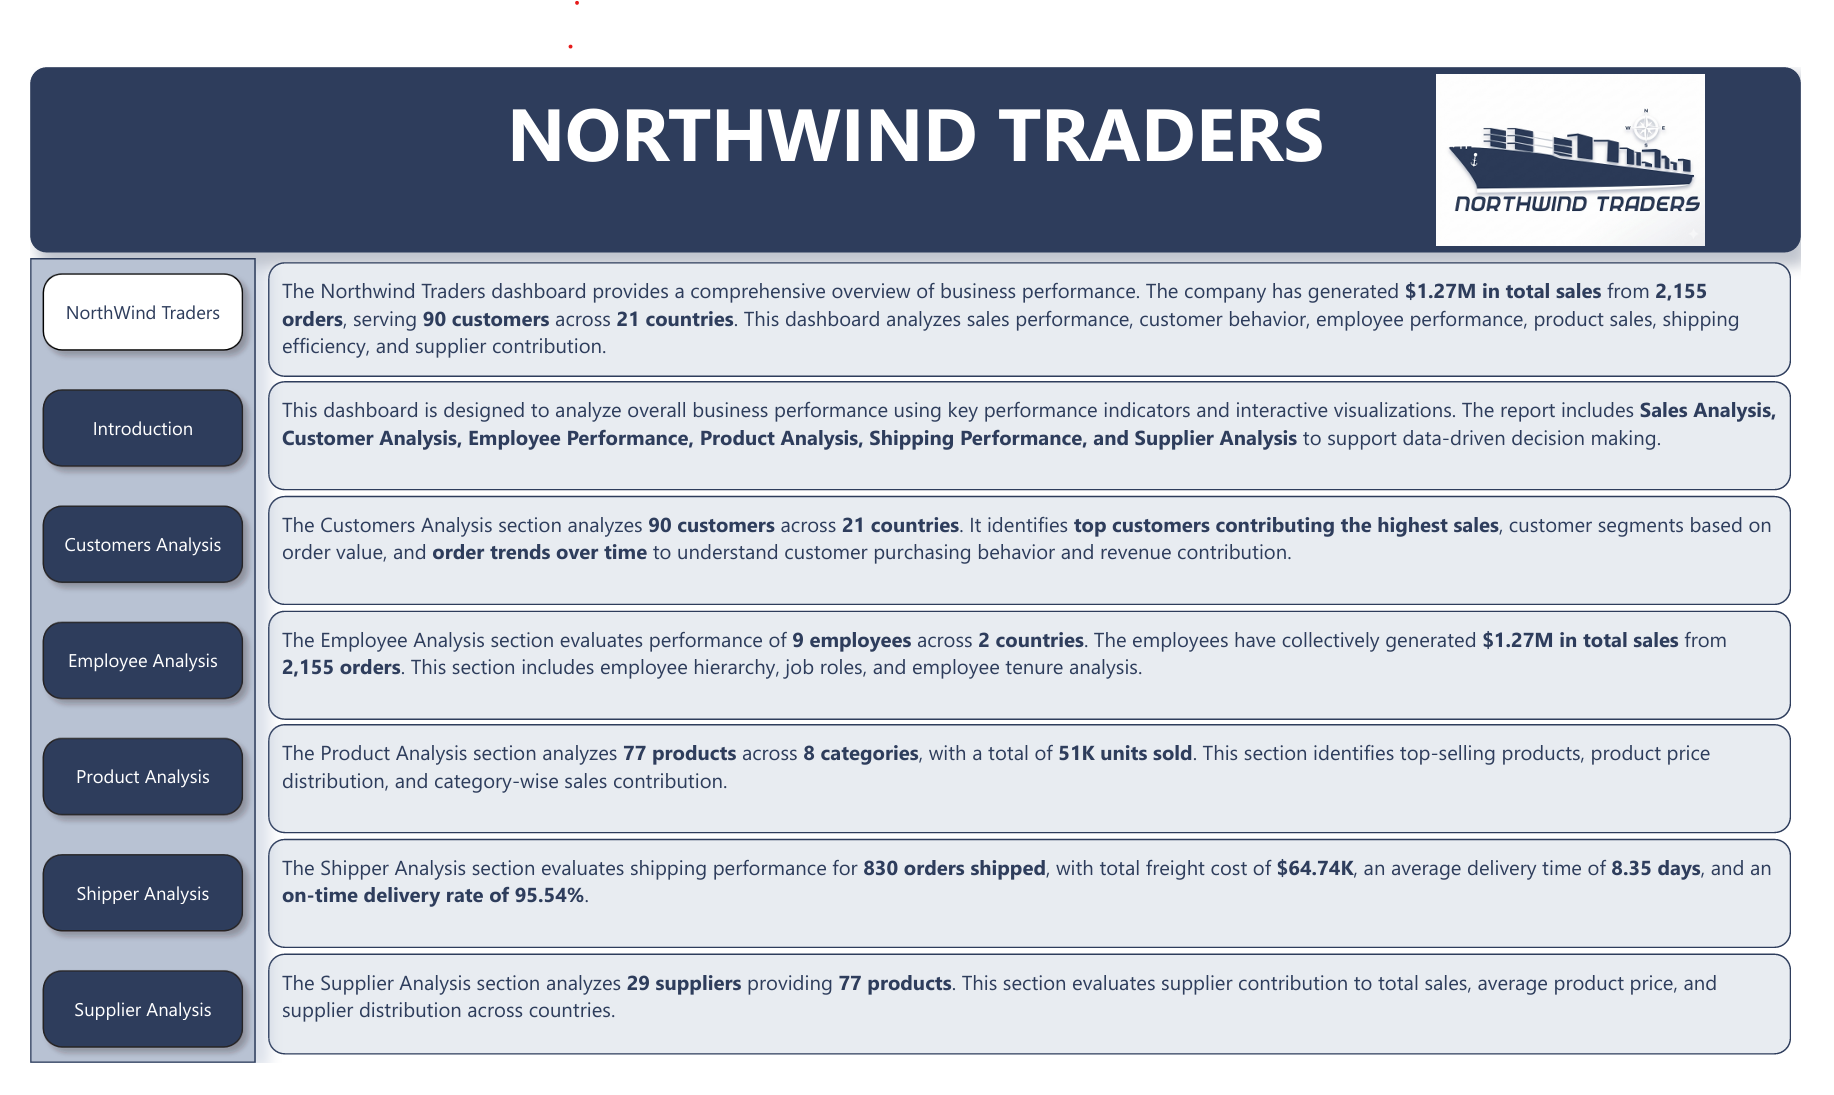

What the dashboard file says about the page in this screenshot:
{"tool":"powerbi","page":{"name":"NorthWind Traders","canvas":[1280,720],"ordinal":0},"visuals":[{"type":"textbox","box":[0,0,1280.4,134.2],"z":0,"group":"g1"},{"type":"textbox","box":[10,10,1116.3,78.9],"z":0},{"type":"textbox","box":[0,137.7,163.2,582.2],"z":0,"group":"g9"},{"type":"textbox","box":[172.3,140.6,1100.9,82.5],"z":0,"group":"g3"},{"type":"textbox","box":[172.3,227,1100.9,78.9],"z":0,"group":"g5"},{"type":"textbox","box":[172.3,309.8,1100.9,78.9],"z":0,"group":"g2"},{"type":"textbox","box":[172.3,392.6,1100.9,78.9],"z":0,"group":"g4"},{"type":"textbox","box":[172.3,475.5,1100.9,78.9],"z":0,"group":"g8"},{"type":"textbox","box":[172.3,558.3,1100.9,78.9],"z":0,"group":"g6"},{"type":"textbox","box":[172.3,641.1,1100.9,72.5],"z":0,"group":"g7"},{"type":"group","id":"g1","title":"Group 2","box":[0,0,1280.4,134.2],"z":1000},{"type":"image","box":[997.5,0,233,134.2],"z":1000,"group":"g1"},{"type":"group","id":"g2","title":"Group 2","box":[172.3,309.8,1100.9,78.9],"z":2000},{"type":"group","id":"g3","title":"Group 2","box":[172.3,140.6,1100.9,82.5],"z":3000},{"type":"group","id":"g4","title":"Group 2","box":[172.3,392.6,1100.9,78.9],"z":4000},{"type":"group","id":"g5","title":"Group 2","box":[172.3,227,1100.9,78.9],"z":5000},{"type":"pageNavigator","box":[0,139.8,163.2,579.4],"z":5501,"group":"g9"},{"type":"group","id":"g6","title":"Group 2","box":[172.3,558.3,1100.9,78.9],"z":6000},{"type":"group","id":"g7","title":"Group 2","box":[172.3,641.1,1100.9,72.5],"z":7000},{"type":"group","id":"g8","title":"Group 2","box":[172.3,475.5,1100.9,78.9],"z":8000},{"type":"group","id":"g9","title":"Group 1","box":[0,137.7,163.2,582.2],"z":9000}]}

Visuals, with their boxes on the page's 1280x720 design canvas (x1, y1, x2, y2). These are canvas units, not pixel positions in the 1834x1095 screenshot, which may show the page scaled, cropped or inside an application window:
textbox: 0 0 1280 134
textbox: 10 10 1126 89
textbox: 0 138 163 720
textbox: 172 141 1273 223
textbox: 172 227 1273 306
textbox: 172 310 1273 389
textbox: 172 393 1273 472
textbox: 172 476 1273 554
textbox: 172 558 1273 637
textbox: 172 641 1273 714
"Group 2" group: 0 0 1280 134
image: 998 0 1230 134
"Group 2" group: 172 310 1273 389
"Group 2" group: 172 141 1273 223
"Group 2" group: 172 393 1273 472
"Group 2" group: 172 227 1273 306
pageNavigator: 0 140 163 719
"Group 2" group: 172 558 1273 637
"Group 2" group: 172 641 1273 714
"Group 2" group: 172 476 1273 554
"Group 1" group: 0 138 163 720
